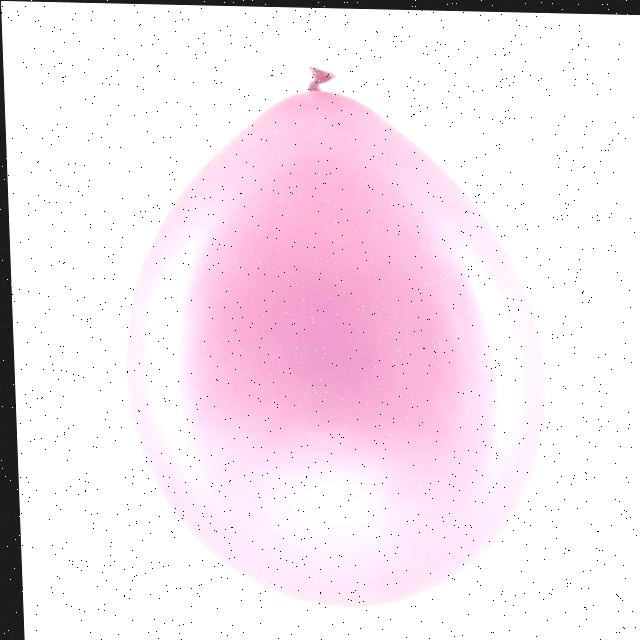balloon: (109, 69, 551, 612)
